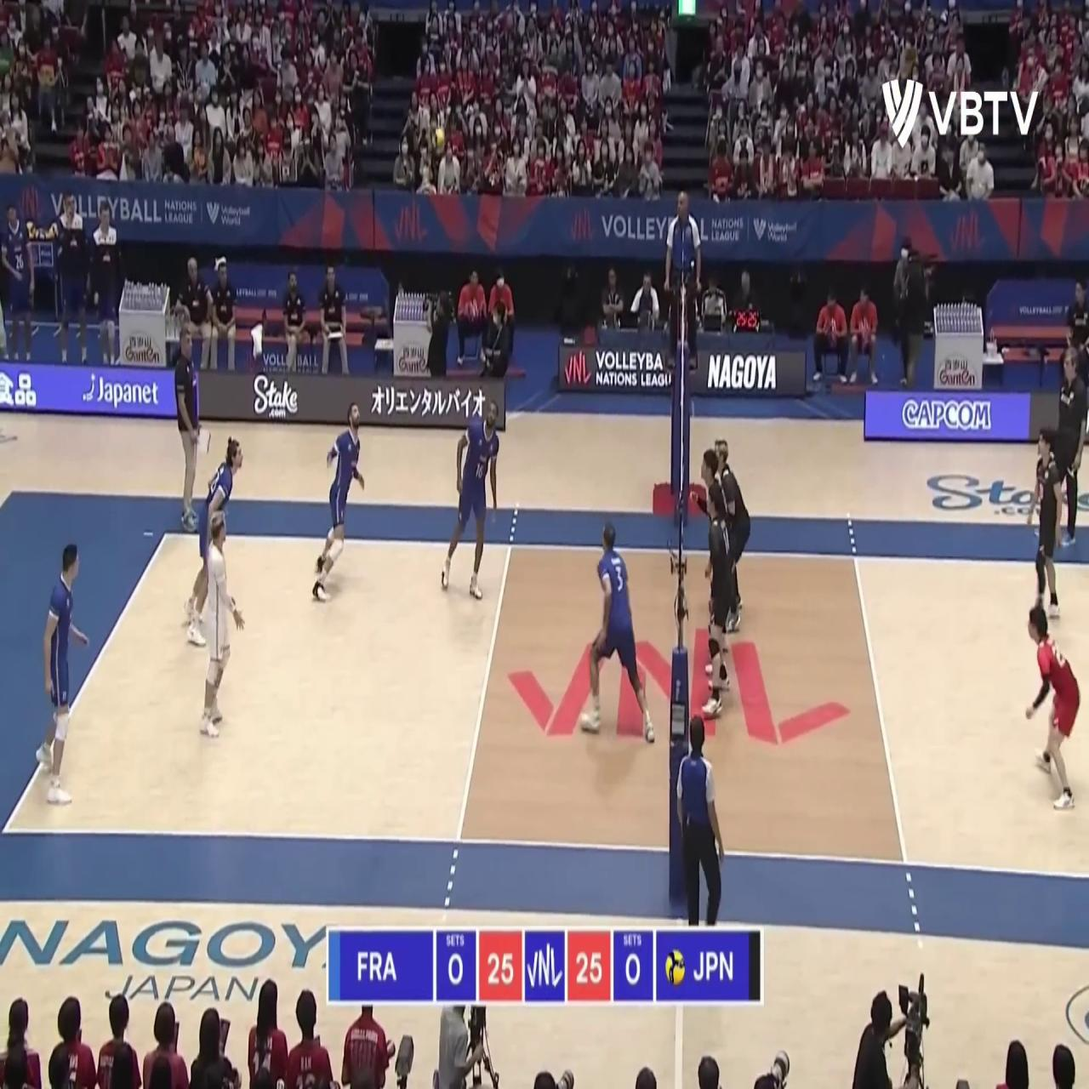ball: (430, 128, 445, 155)
